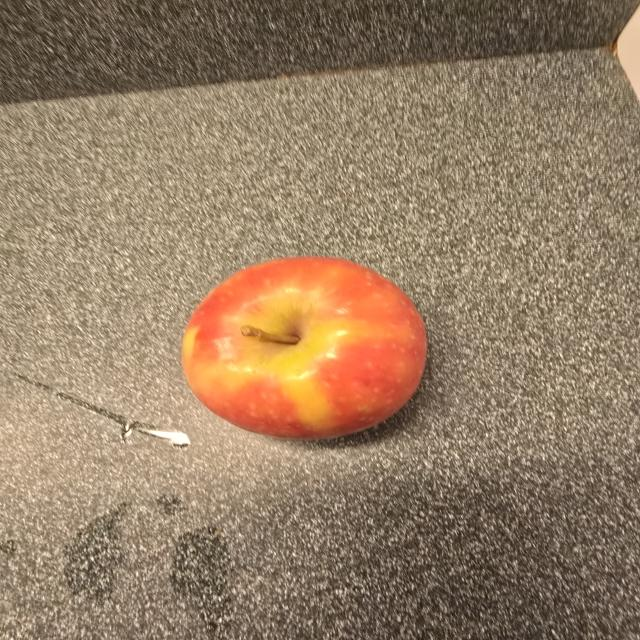Apple: (182, 257, 427, 439)
